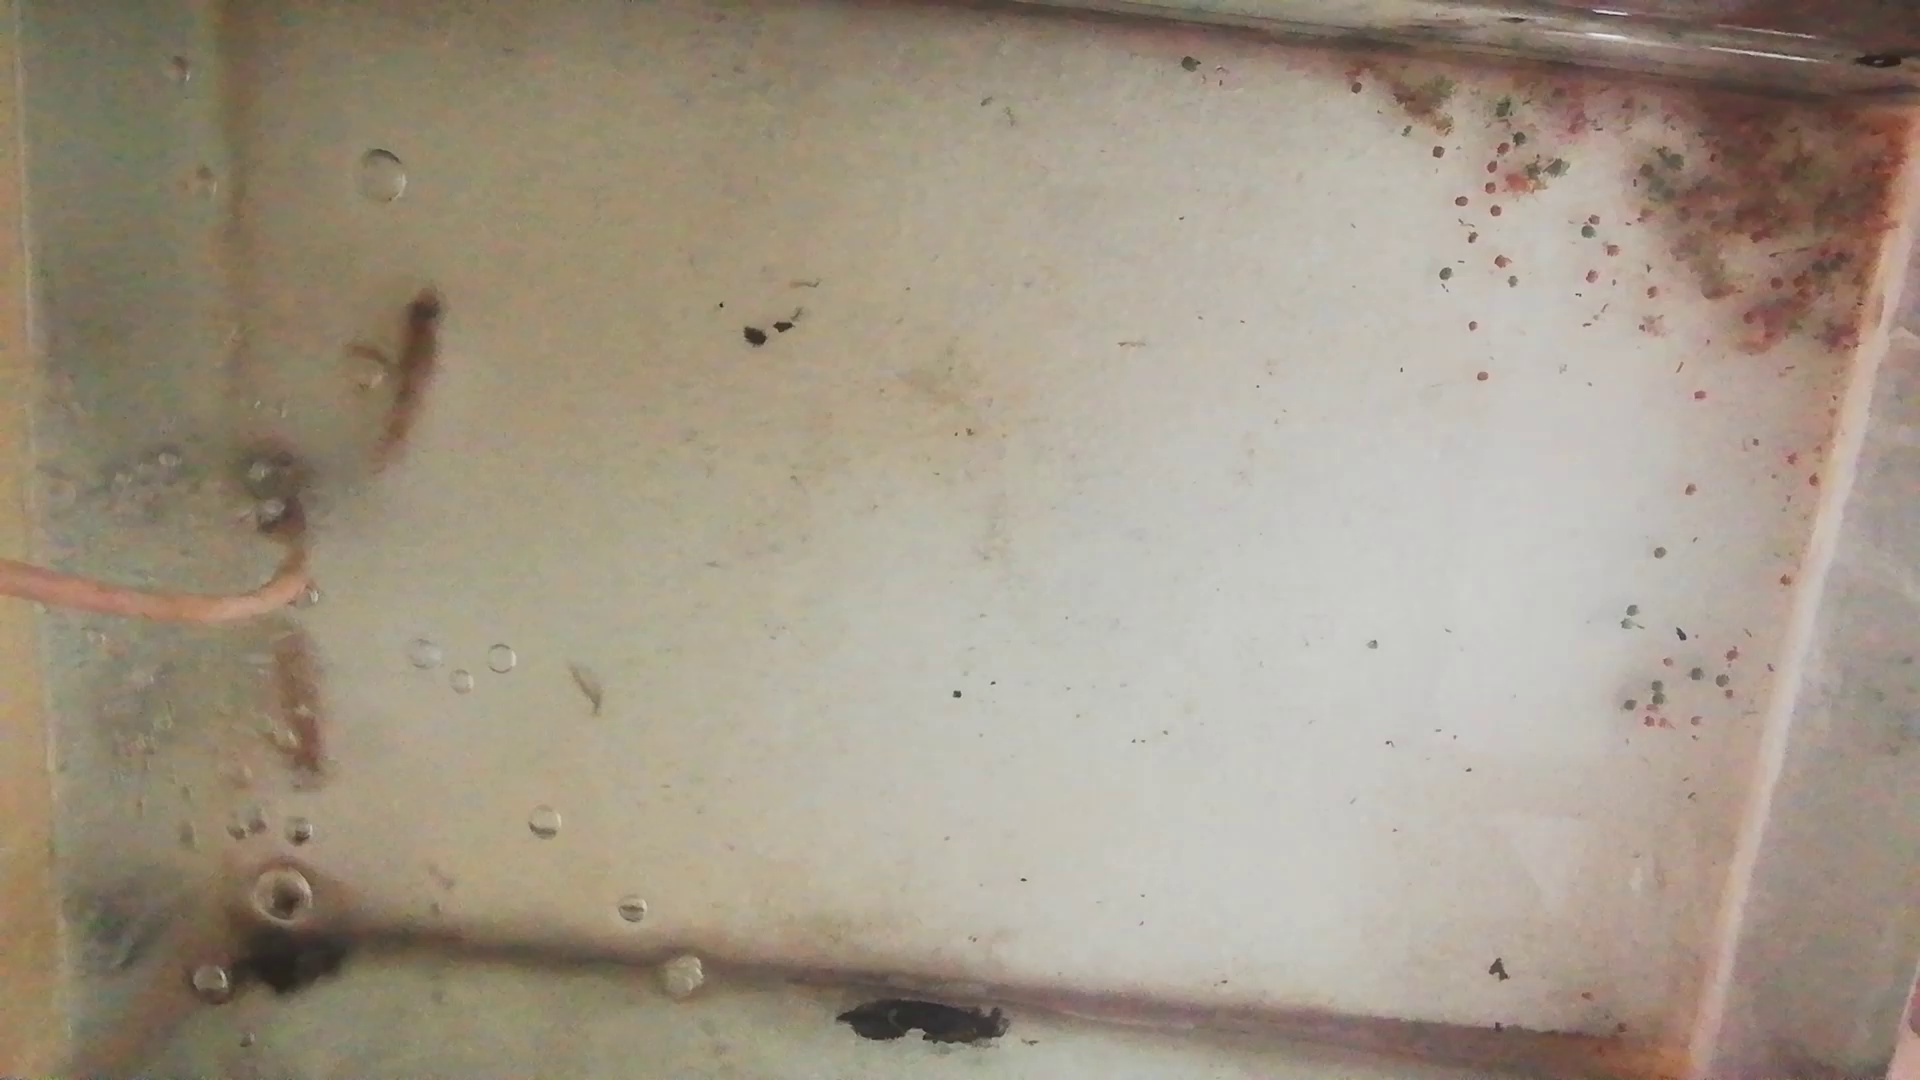fish: (371, 285, 451, 469), (268, 616, 340, 793)
